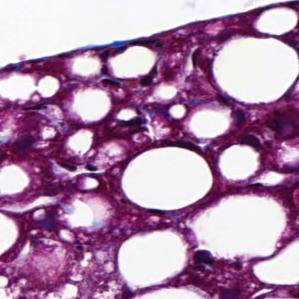inflammation: (179, 38, 214, 83), (108, 113, 157, 140), (48, 155, 105, 176), (133, 63, 166, 91)
